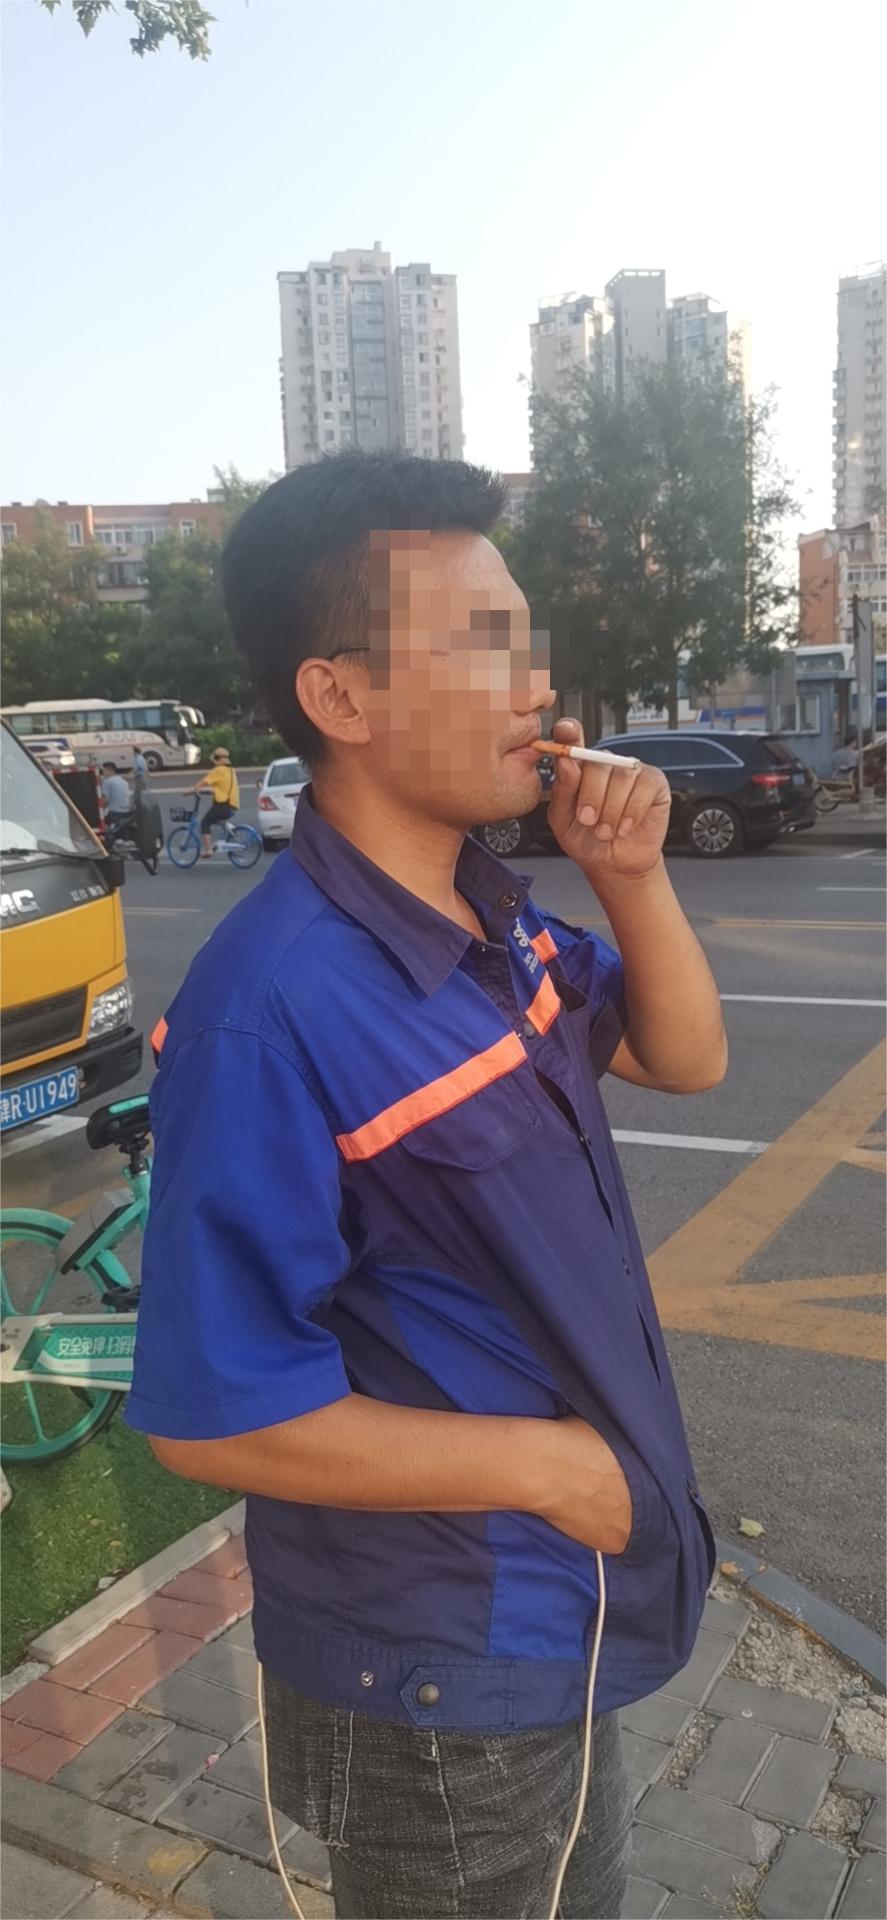smoke: (529, 741, 641, 775)
